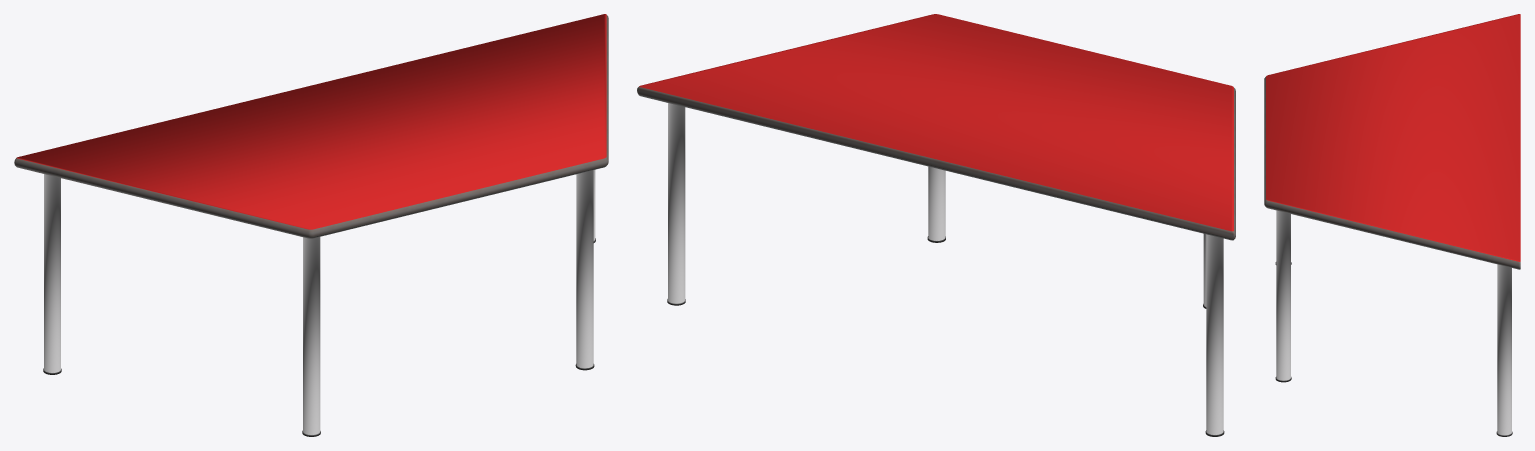
The model's file is SemihexaTable.fbx.
3 renders of one model, left to right at view 1: azimuth 30°, elevation 25°; view 2: azimuth 150°, elevation 25°; view 3: azimuth 270°, elevation 25°, orthographic. The views are drawn at different scales.
Visible parts, largest first — view 1: SM_SemihexagonTable__1_; view 2: SM_SemihexagonTable__1_; view 3: SM_SemihexagonTable__1_.
Part boxes in pixels (x1,y1,x2,y2): SM_SemihexagonTable__1_: (14,14,608,436); SM_SemihexagonTable__1_: (637,14,1235,436); SM_SemihexagonTable__1_: (1264,14,1520,436).
Size of the model in its own units: 126 by 43.35 by 54.88.
